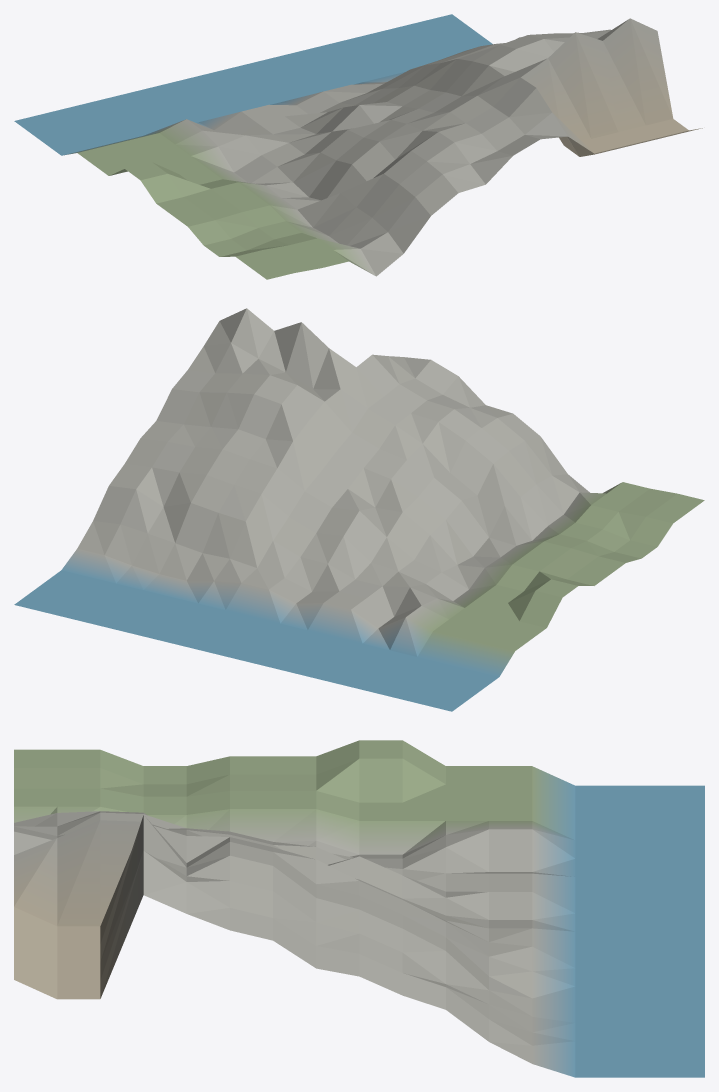
The picture shows the model from 3 angles, top to bottom: view 1: azimuth 30°, elevation 25°; view 2: azimuth 150°, elevation 25°; view 3: azimuth 270°, elevation 25°; orthographic projection. The views are drawn at different scales.
Bounding box in the file's own units: 32 × 10.68 × 32.
